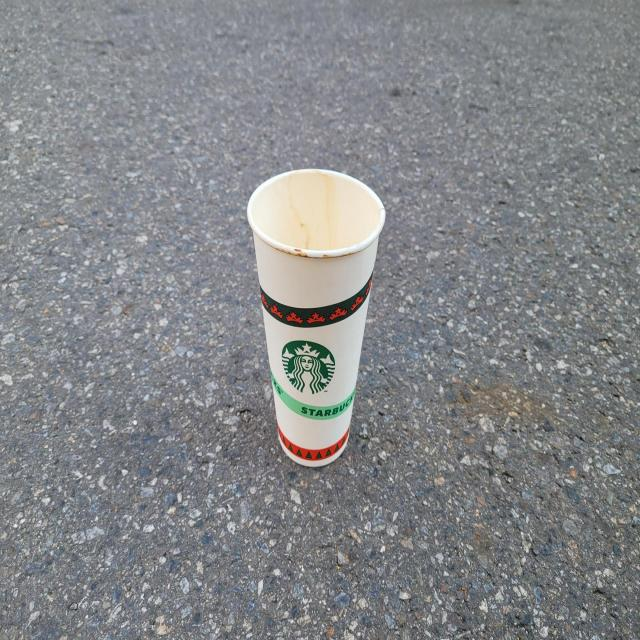paperpack: (247, 168, 386, 467)
